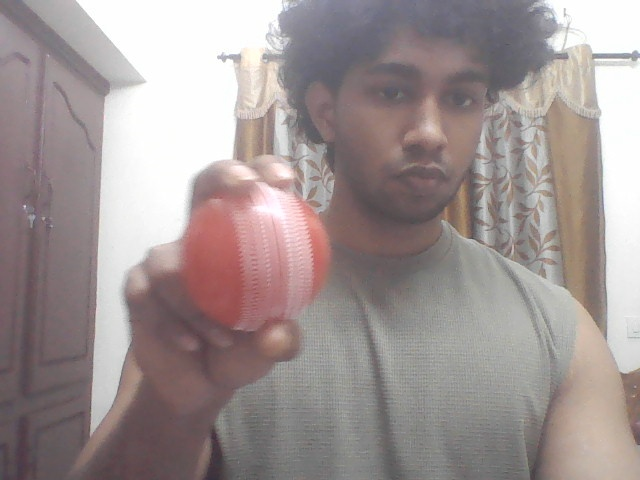cricket_ball: (178, 184, 344, 329)
